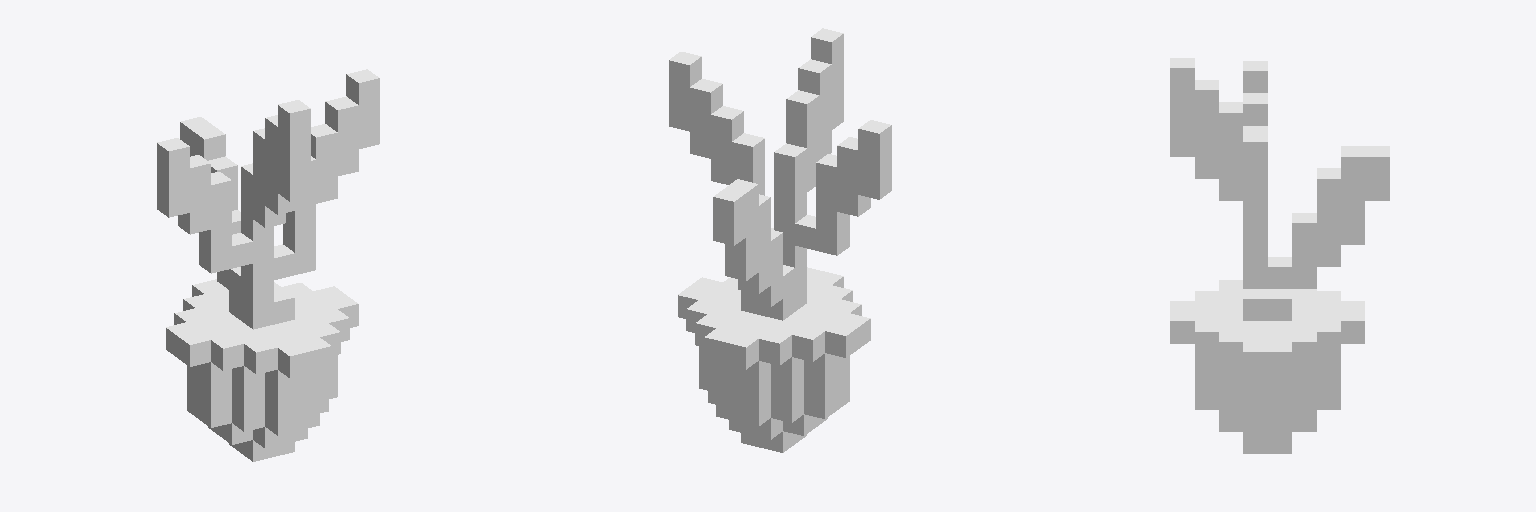
The model's file is vazonchik01.obj.
The picture shows the model from 3 angles: view 1: azimuth 30°, elevation 25°; view 2: azimuth 150°, elevation 25°; view 3: azimuth 270°, elevation 25°; orthographic projection.
Parts seen in each view (by area): view 1: object 1; view 2: object 1; view 3: object 1.
Boxes of the visible parts, box(x1,y1,x2,y2) form: object 1: box(157, 69, 379, 461); object 1: box(669, 28, 891, 452); object 1: box(1170, 58, 1389, 453).
Size of the model in its own units: 1 by 1.7 by 0.9.